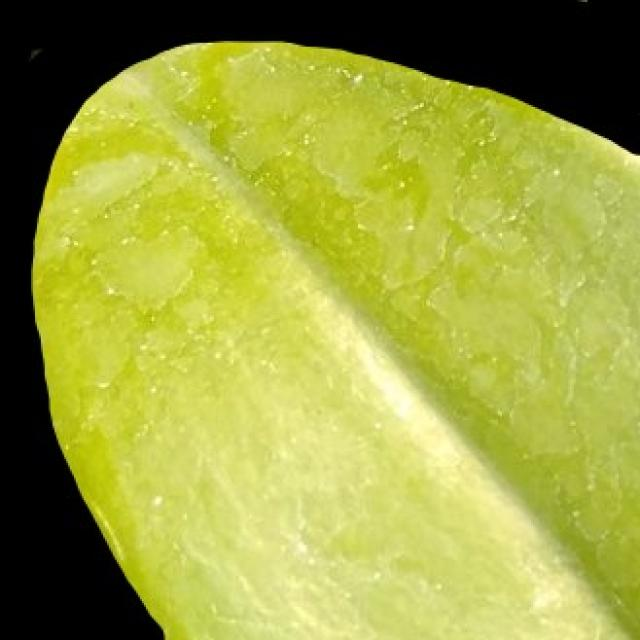mite: (101, 224, 202, 311), (564, 0, 599, 14), (560, 0, 615, 6)
spots: (29, 37, 638, 638)
